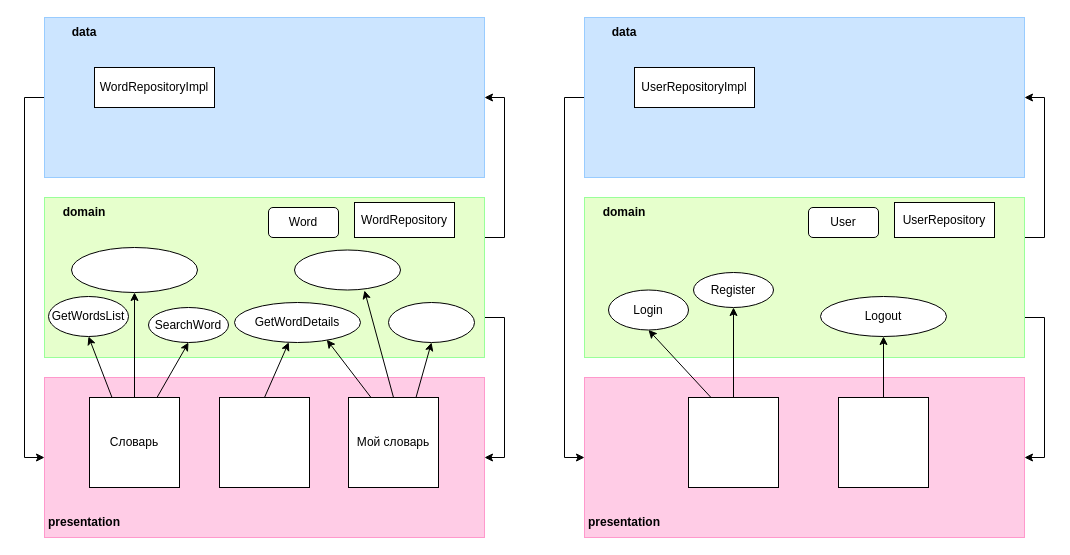
This 1070x555 diagram has some shape labels left out. The box of each missing label's shape, as (x1, y1, x2, y2) in pixels:
AddToMyDictionary: (70, 246, 198, 292)
GetMyWordsList: (294, 249, 400, 290)
RemoveWord: (388, 302, 474, 342)
Вход/Регистрация: (688, 396, 778, 488)
Личный кабинет пользователя: (838, 396, 928, 488)
Подробности слова: (218, 396, 310, 488)
